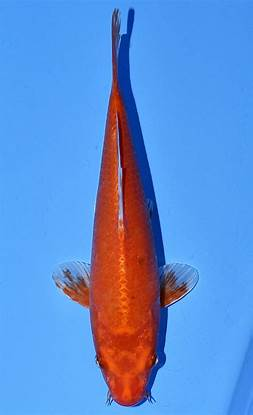red: (51, 10, 200, 408)
